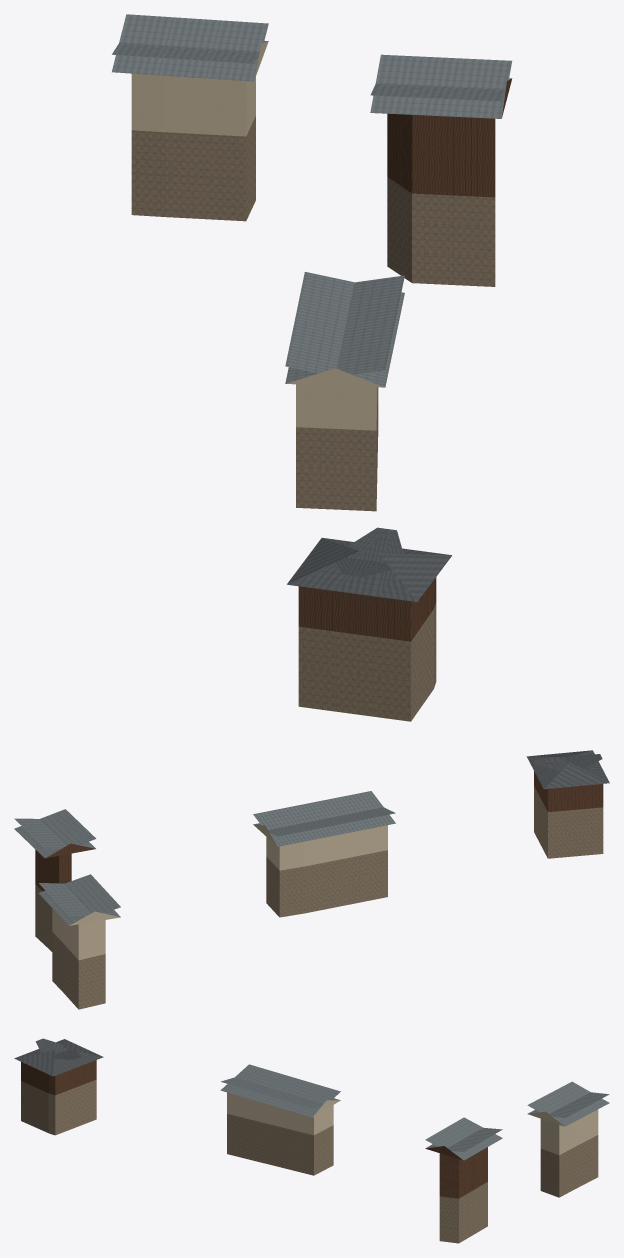
File: bld_c32_-24_533.gltf
The picture shows the model from 3 angles, top to bottom: view 1: azimuth 30°, elevation 25°; view 2: azimuth 150°, elevation 25°; view 3: azimuth 270°, elevation 25°; orthographic projection. The views are drawn at different scales.
Visible parts, largest first — view 1: bld_c32_-24_533; view 2: bld_c32_-24_533; view 3: bld_c32_-24_533.
Boxes of the visible parts, <box> form: bld_c32_-24_533: <box>112,14,512,721</box>; bld_c32_-24_533: <box>14,750,609,1009</box>; bld_c32_-24_533: <box>14,1038,609,1243</box>.
Size of the model in its own units: 37.26 by 11.6 by 61.53.
Materials: 7 (7 with a texture image).
